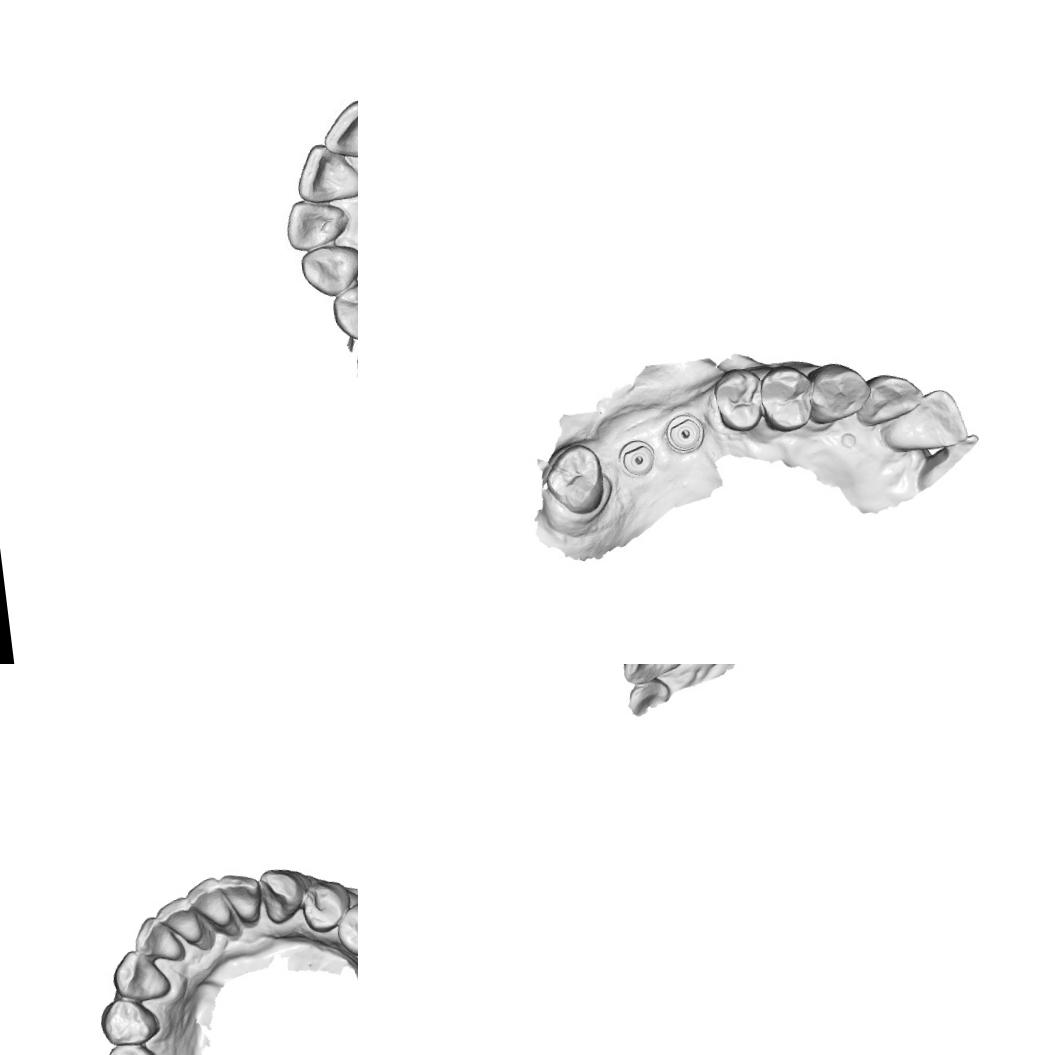canine: (804, 358, 874, 430), (294, 239, 358, 302), (108, 945, 173, 1005), (255, 865, 308, 926)
implant: (662, 410, 708, 458), (614, 434, 660, 480)
incisor: (876, 384, 972, 458), (290, 136, 358, 210), (850, 367, 929, 430), (278, 192, 351, 253), (130, 913, 186, 968), (216, 867, 266, 928), (153, 892, 205, 949), (185, 874, 234, 934), (320, 97, 358, 167), (615, 664, 689, 687)
molar: (538, 439, 614, 521)
premolar: (756, 360, 821, 436), (708, 360, 771, 438), (96, 994, 163, 1048), (296, 876, 353, 934), (326, 271, 358, 342), (333, 898, 358, 963), (100, 1038, 168, 1055)
